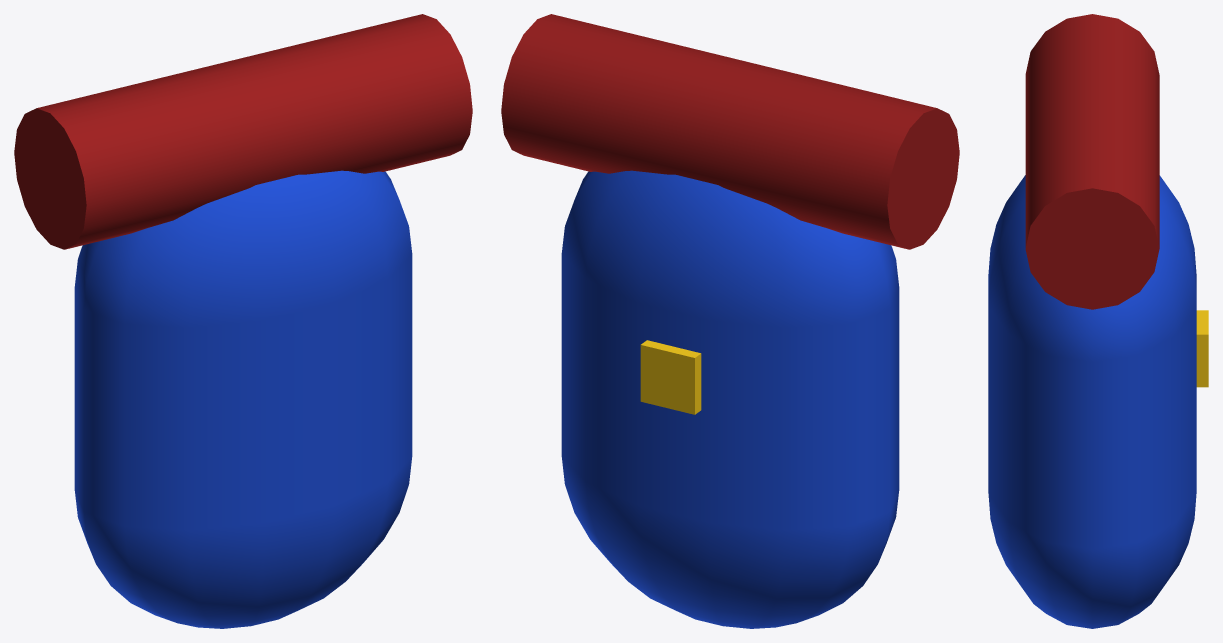
The model's file is explorer_pack.glb.
The picture shows the model from 3 angles, left to right: view 1: azimuth 30°, elevation 25°; view 2: azimuth 150°, elevation 25°; view 3: azimuth 270°, elevation 25°; orthographic projection. The views are drawn at different scales.
Parts seen in each view (by area): view 1: pack_body, pack_bedroll; view 2: pack_body, pack_bedroll, pack_buckle; view 3: pack_body, pack_bedroll, pack_buckle.
Boxes of the visible parts, <box> form: pack_body: <box>74,170,412,628</box>; pack_bedroll: <box>14,14,472,249</box>; pack_body: <box>561,170,899,628</box>; pack_bedroll: <box>501,14,959,249</box>; pack_buckle: <box>640,340,701,414</box>; pack_body: <box>988,175,1196,628</box>; pack_bedroll: <box>1025,14,1159,309</box>; pack_buckle: <box>1196,310,1208,387</box>.
Bounding box in the file's own units: 0.32 × 0.437 × 0.1707.
